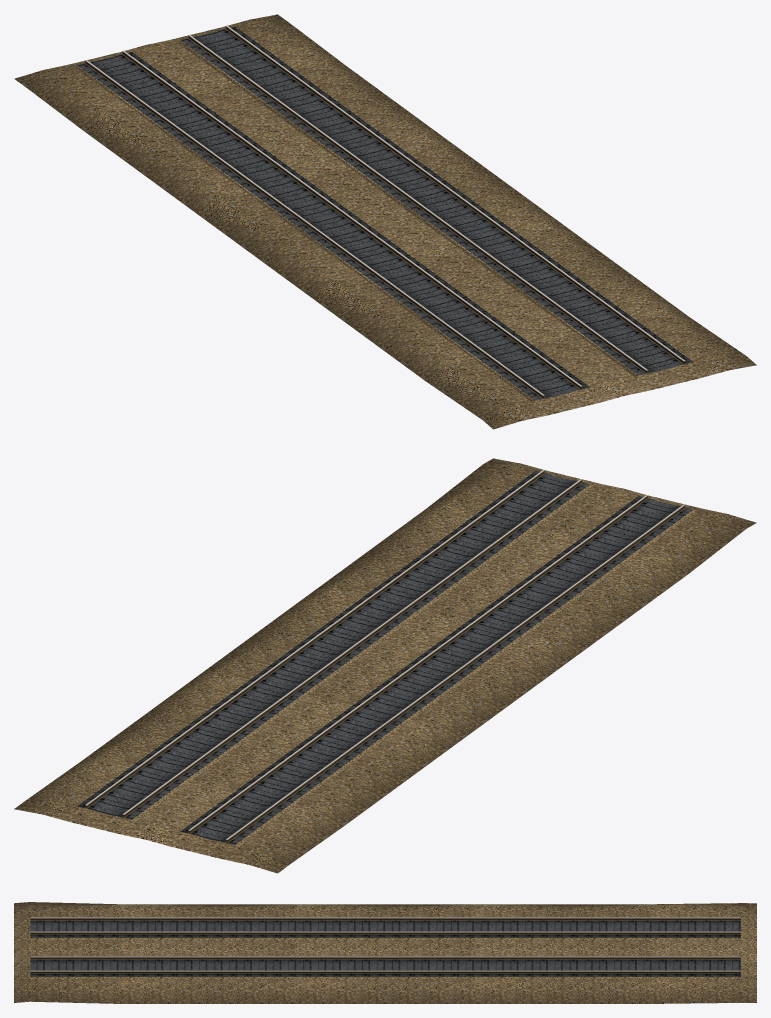
Rendered from 2RAIL_JARI_WN.glb.
3 views of the same model, one above another, from view 1: azimuth 30°, elevation 25°; view 2: azimuth 150°, elevation 25°; view 3: azimuth 270°, elevation 25° (orthographic). The views are drawn at different scales.
Parts seen in each view (by area): view 1: obj6; view 2: obj6; view 3: obj6.
Boxes of the visible parts, x1=… form: obj6: x1=14, y1=14, x2=756, y2=429; obj6: x1=14, y1=458, x2=756, y2=873; obj6: x1=14, y1=902, x2=756, y2=1003.
Bounding box in the file's own units: 33.22 × 1.51 × 105.
Materials: 3 (2 with a texture image).
